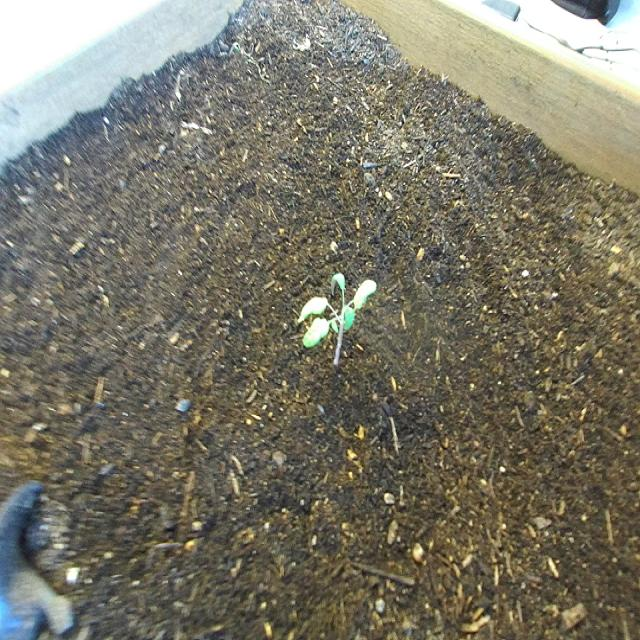Healthy: (293, 260, 381, 382)
